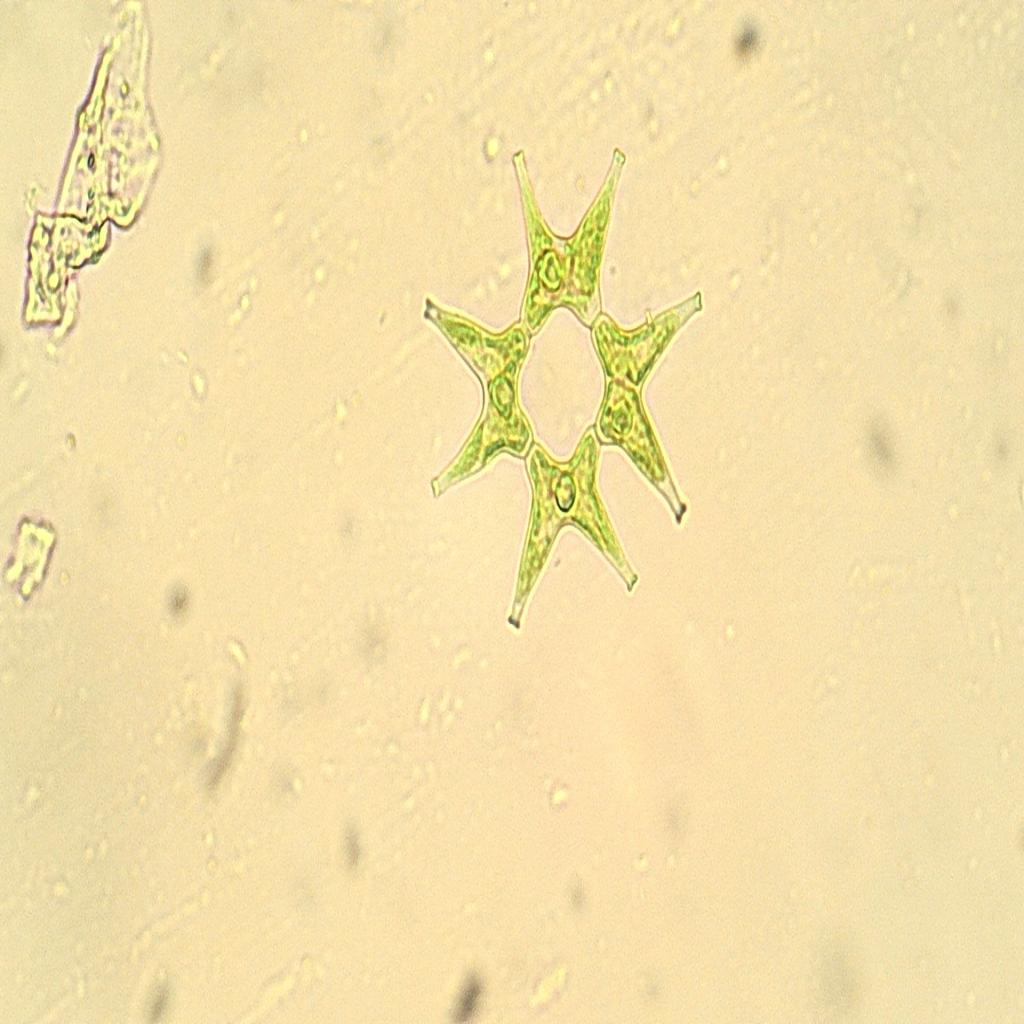Pediastrum_CO: (416, 126, 729, 646)
